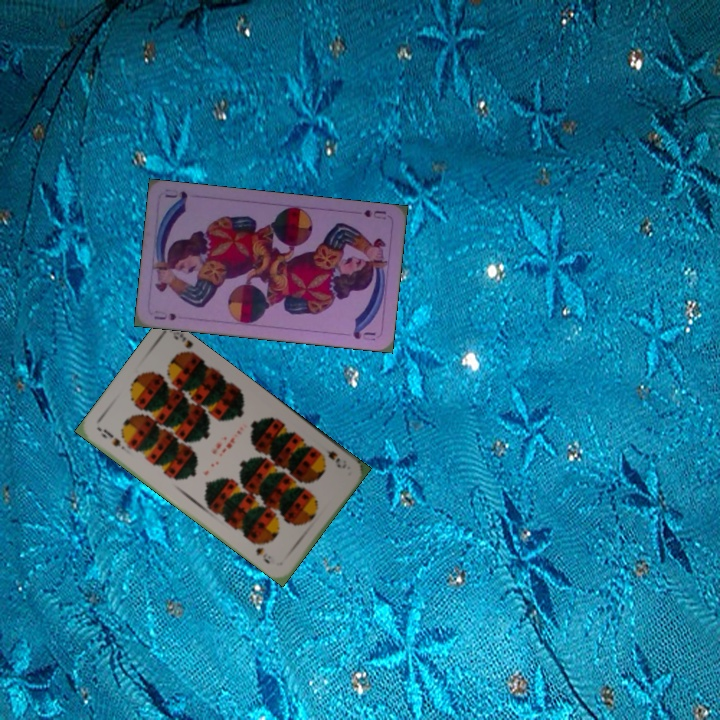S9: (97, 425, 128, 454), (321, 445, 350, 471)
SU: (150, 306, 179, 323), (360, 206, 389, 222)
